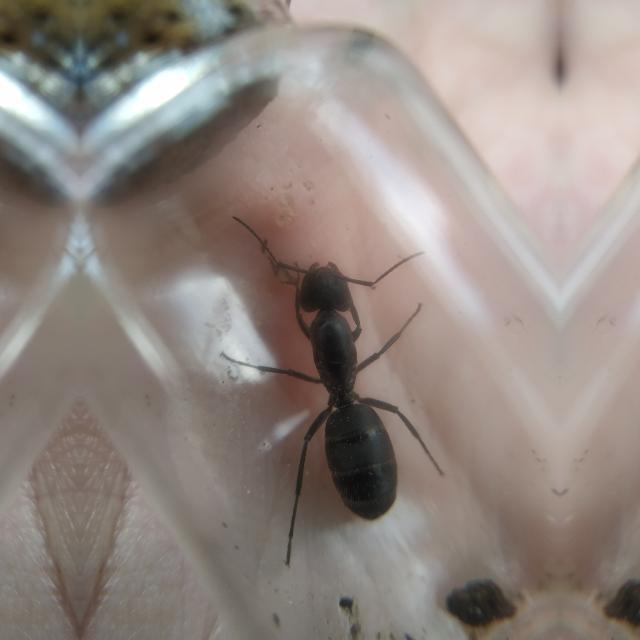Camponotus: (232, 195, 468, 549)
